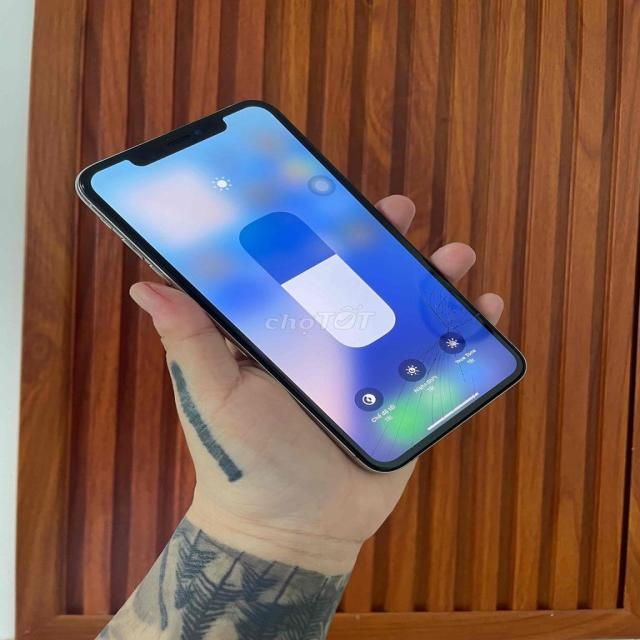physical_damage: (346, 261, 488, 458)
